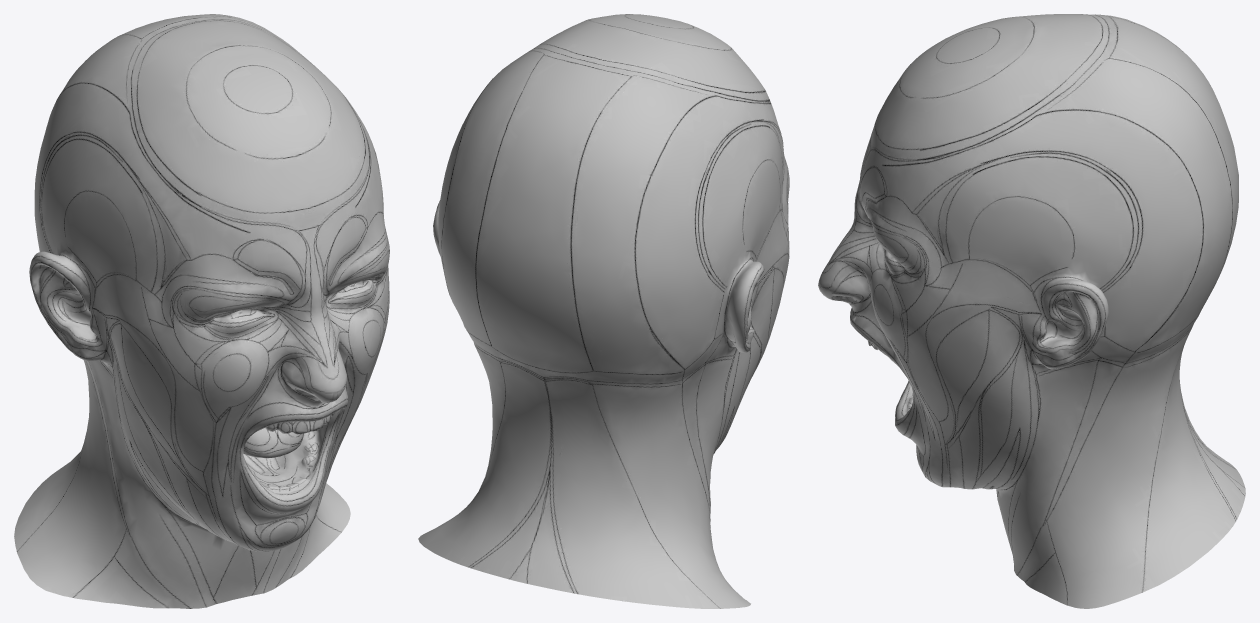
File: 头部分面体_20260324184701_opt.glb
The picture shows the model from 3 angles, left to right: view 1: azimuth 30°, elevation 25°; view 2: azimuth 150°, elevation 25°; view 3: azimuth 270°, elevation 25°; orthographic projection. The views are drawn at different scales.
Parts seen in each view (by area): view 1: Shell001; view 2: Shell001; view 3: Shell001.
Boxes of the visible parts, x1,y1,x2,y2 form: Shell001: (14, 14, 389, 608); Shell001: (418, 14, 789, 608); Shell001: (818, 14, 1245, 608).
Size of the model in its own units: 0.2461 by 0.4 by 0.2937.
Materials: 2 (1 with a texture image).
